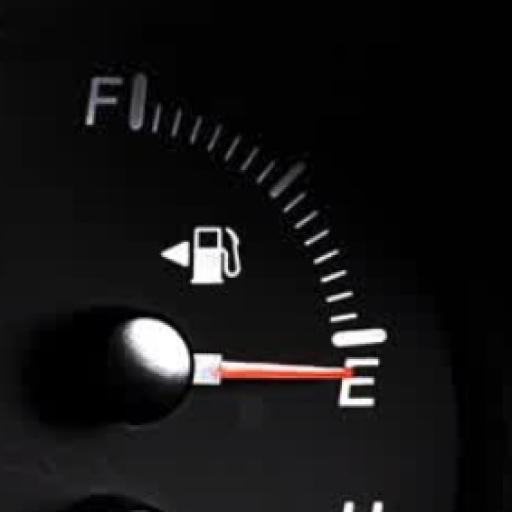empty: (340, 356, 380, 412)
fuel_icon: (191, 225, 246, 289)
full: (81, 74, 123, 127)
guage_area: (38, 62, 396, 480)
needle_center: (91, 306, 220, 424)
needle_tip: (310, 366, 354, 378)
